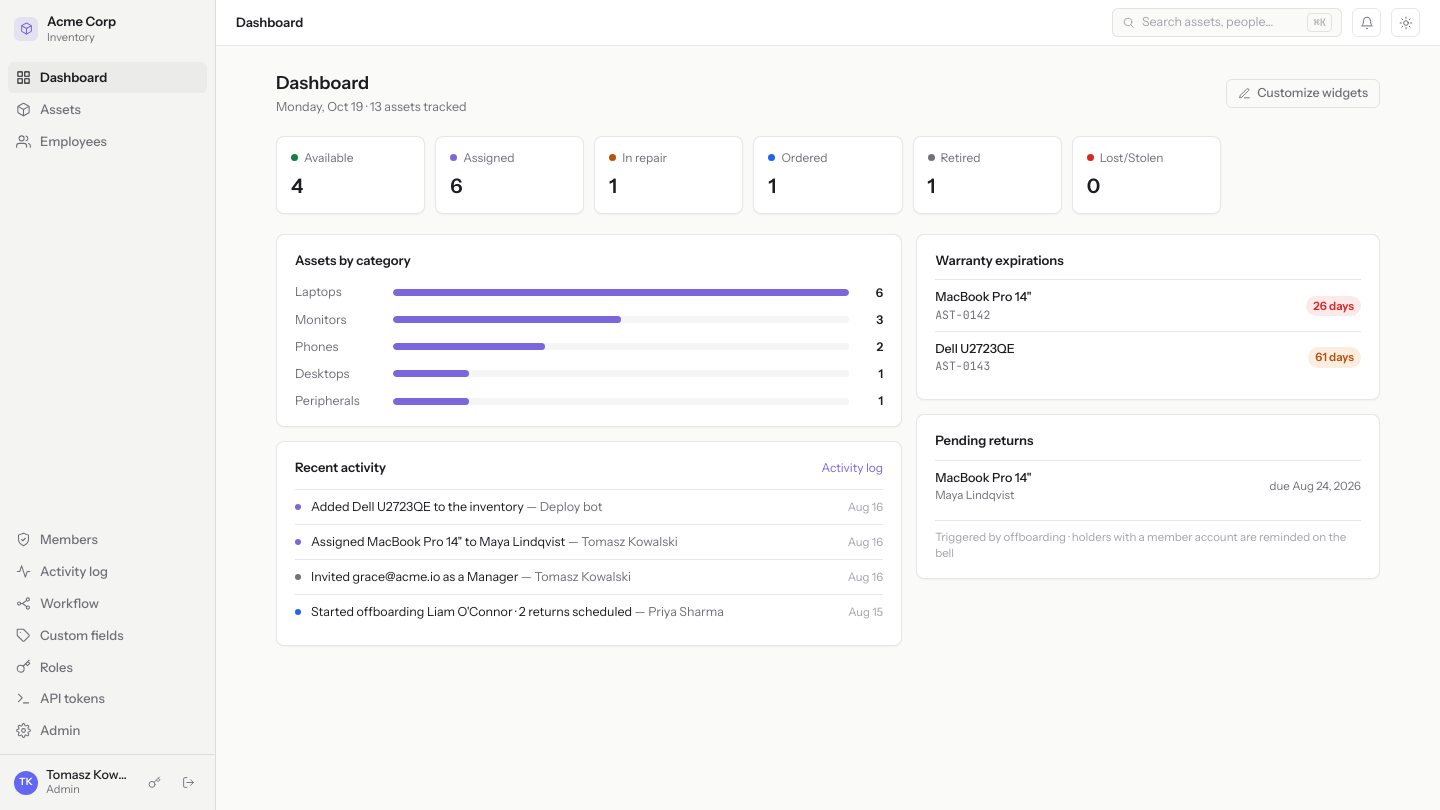
changing your own password › sends both fields, closes, and says what else it signed out
Click the button named "Change password" at [154, 782], box [141,770,167,796]
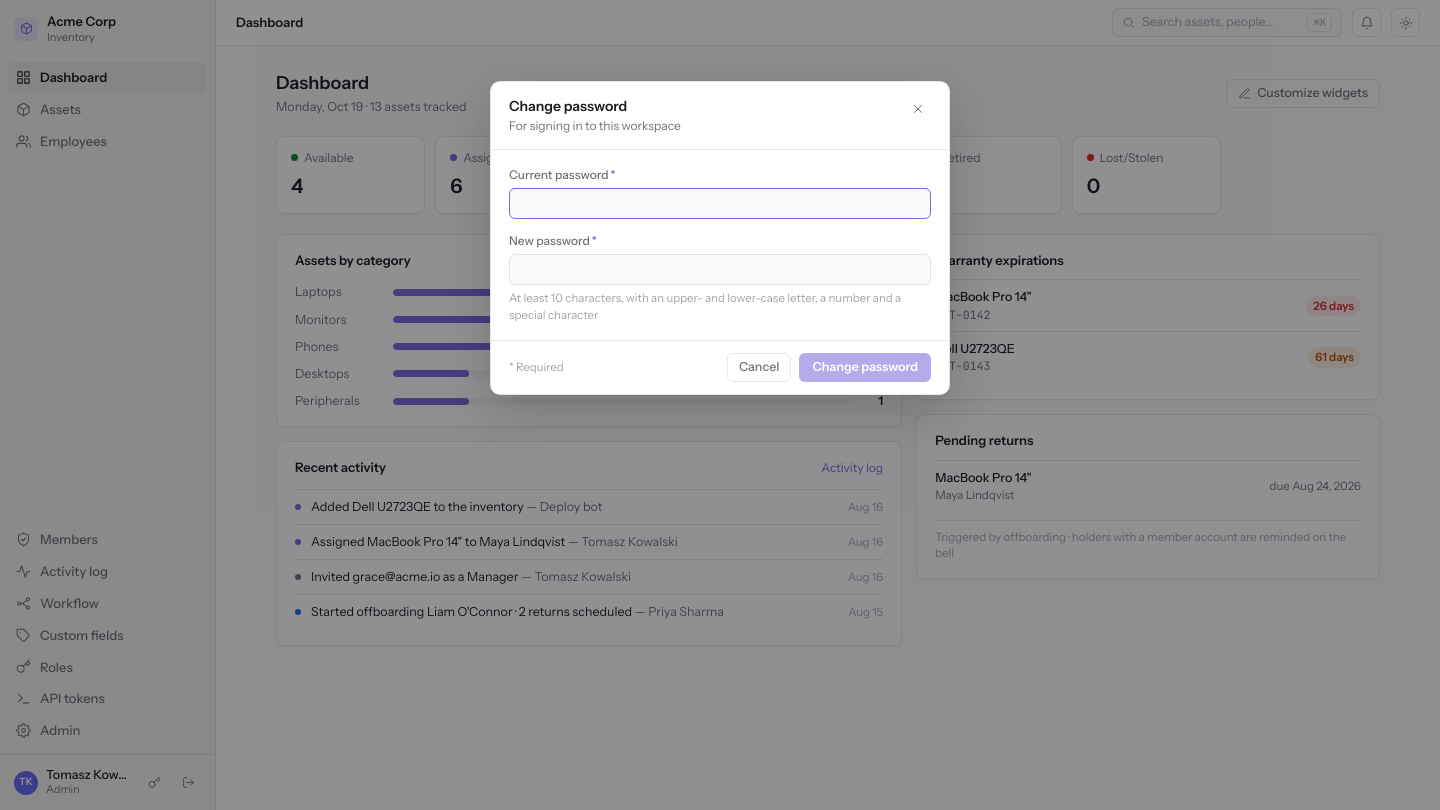
Type "the-old-password" into the password field labelled "Current password" at [720, 204], box [509,188,931,219]
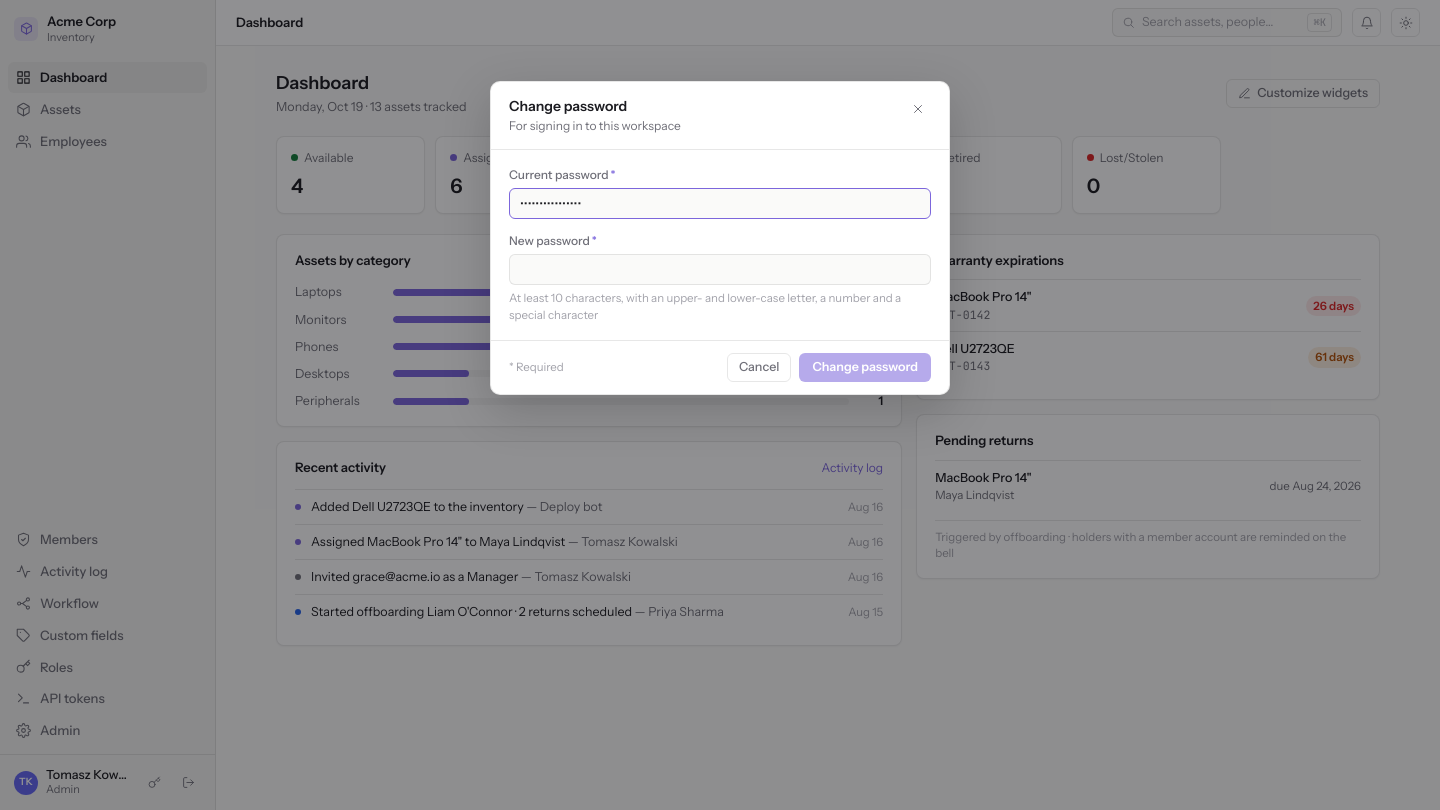
Type "the-new-password-here" into the password field labelled "New password" at [720, 270], box [509,254,931,286]
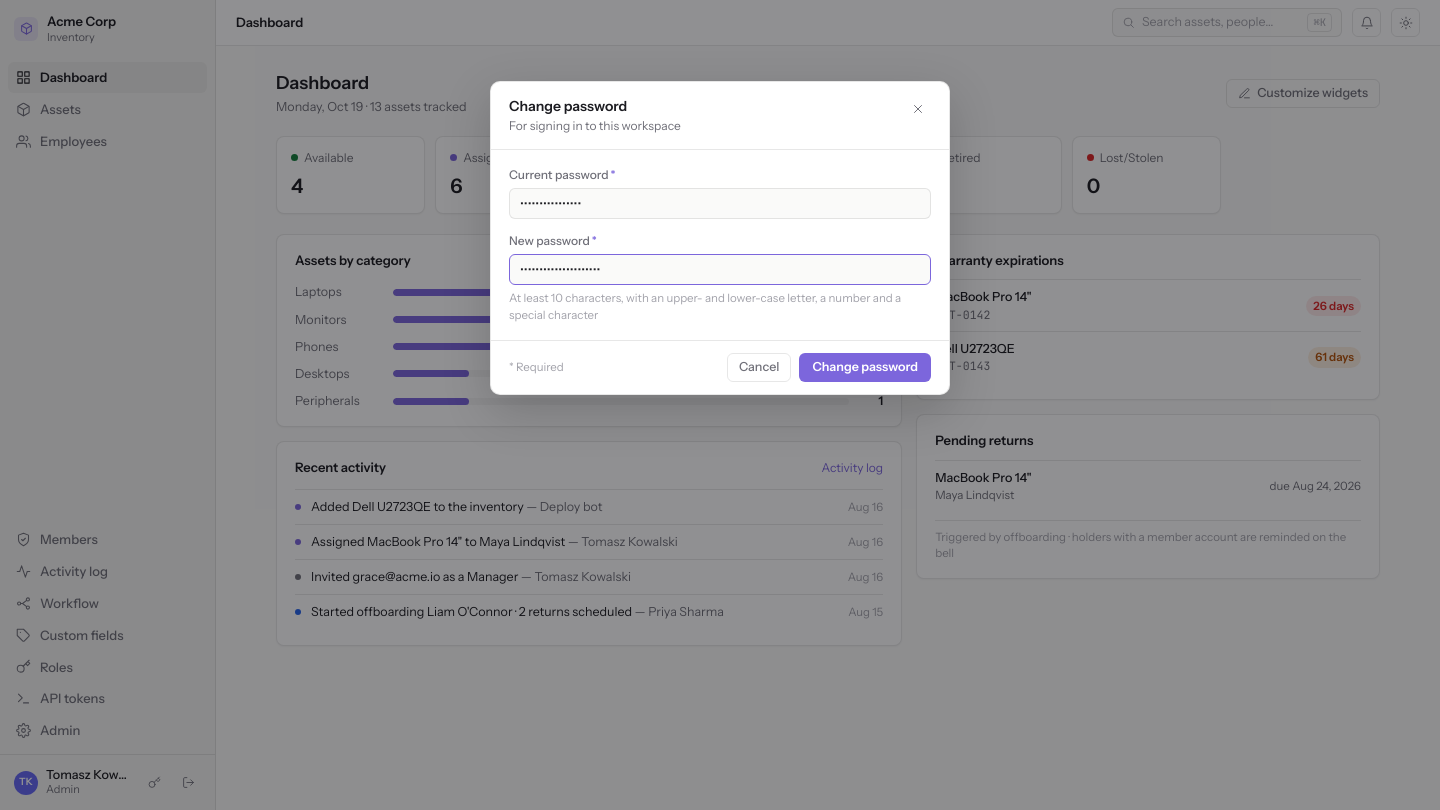
Click the button "Change password" at [865, 367], box [799,353,931,382]
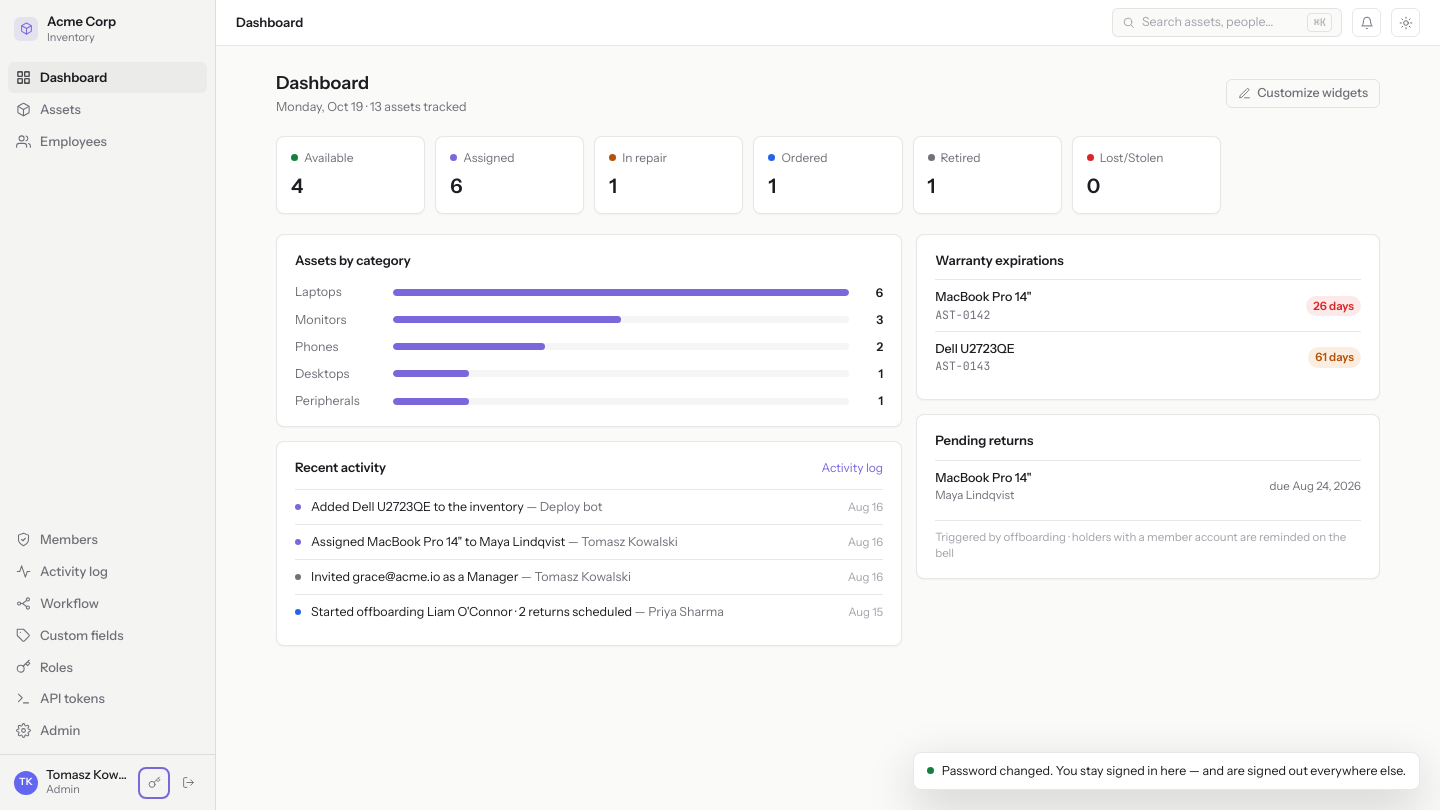
Expected: the dialog is gone
Expected: the text "signed out everywhere else" is shown, [942,763,1406,778]
